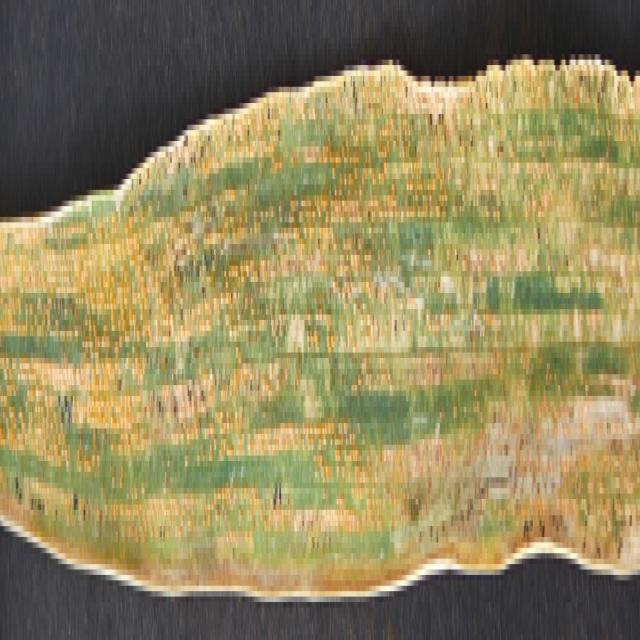leaf rust: (0, 70, 640, 596)
